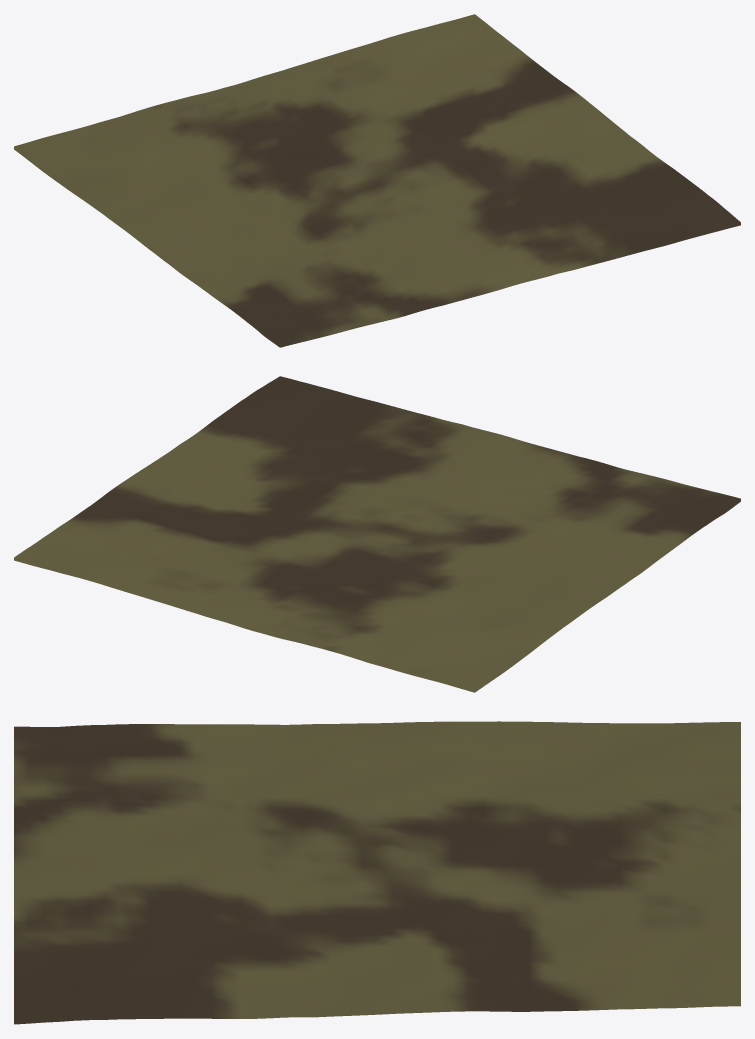
The model's file is land_m_13_01.glb.
3 renders of one model, top to bottom at view 1: azimuth 30°, elevation 25°; view 2: azimuth 150°, elevation 25°; view 3: azimuth 270°, elevation 25°, orthographic. The views are drawn at different scales.
Parts seen in each view (by area): view 1: land_m_13_01; view 2: land_m_13_01; view 3: land_m_13_01.
Boxes of the visible parts, x1,y1,x2,y2 form: land_m_13_01: [14, 14, 740, 347]; land_m_13_01: [14, 376, 740, 692]; land_m_13_01: [14, 721, 740, 1024].
Bounding box in the file's own units: 960 × 52.97 × 960.
